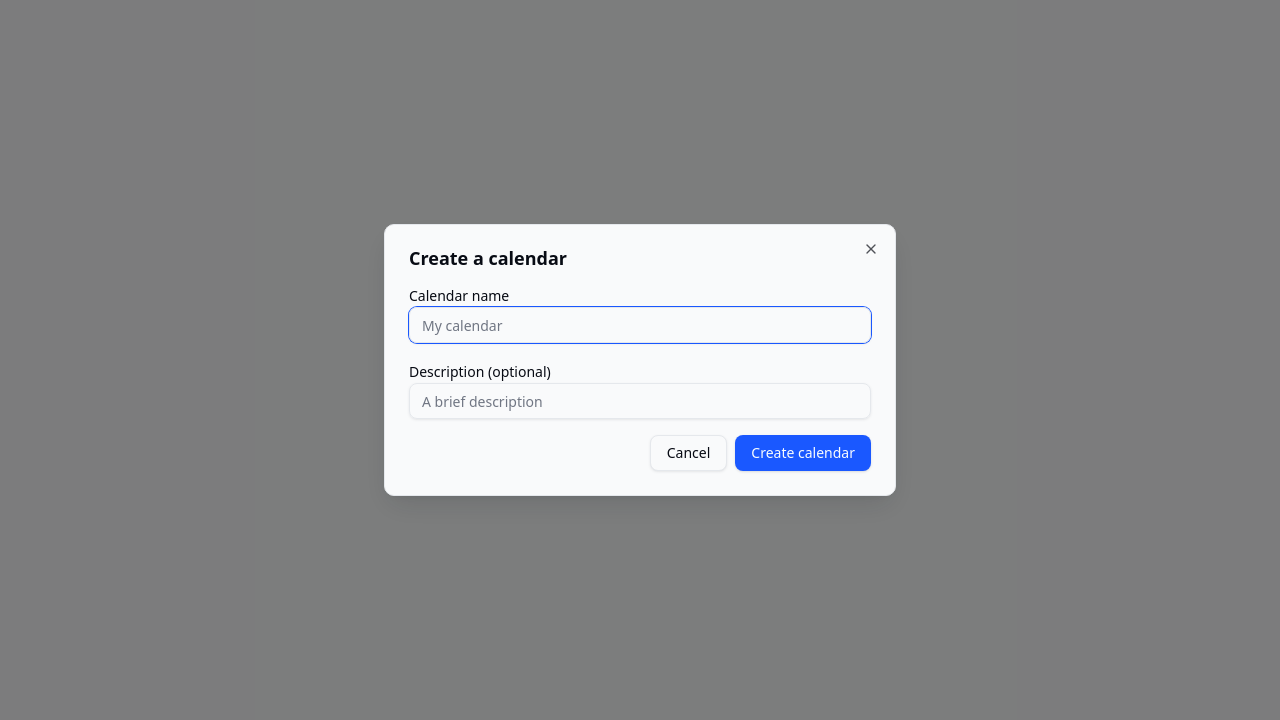
Test: CreateCalendarDialog › submit disabled while pending › submit button is disabled while the mutation is pending
The image size is (1280, 720).
In the field labelled "Calendar name": (640, 325) top-left (409, 307), bottom-right (871, 343), type "Pending Calendar"
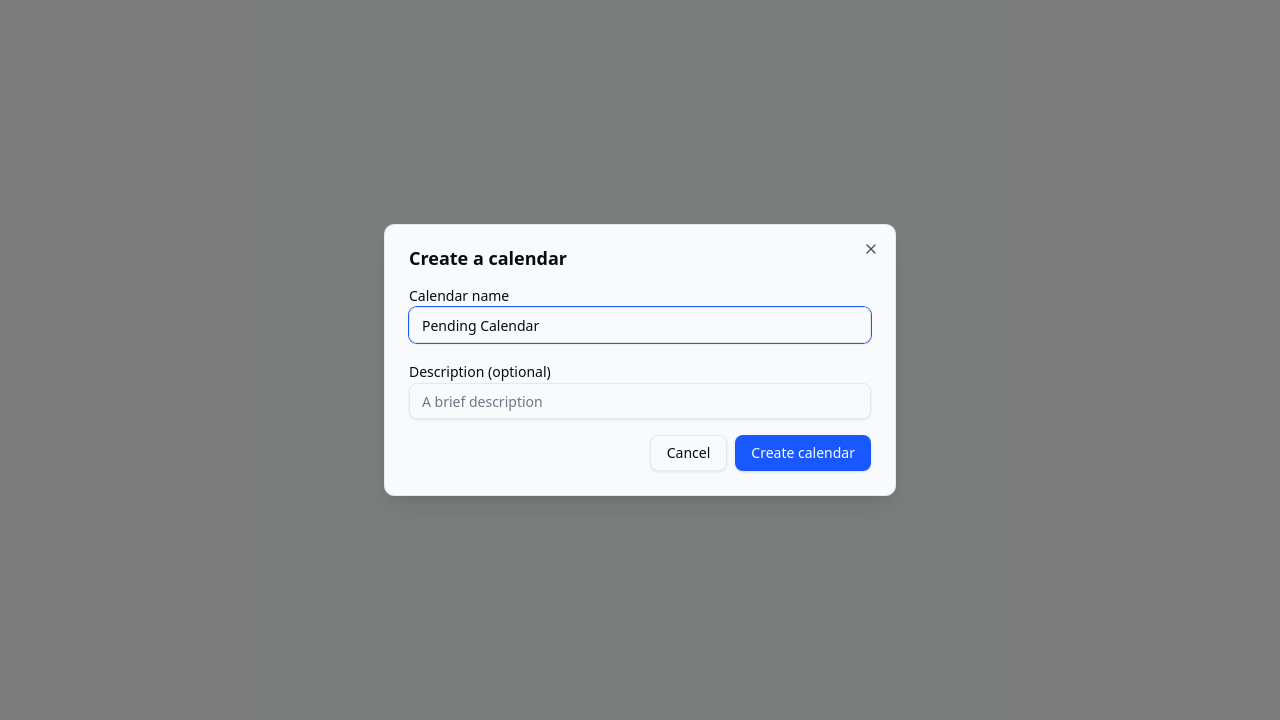
Click the button "Create calendar": (803, 453) top-left (735, 435), bottom-right (871, 471)
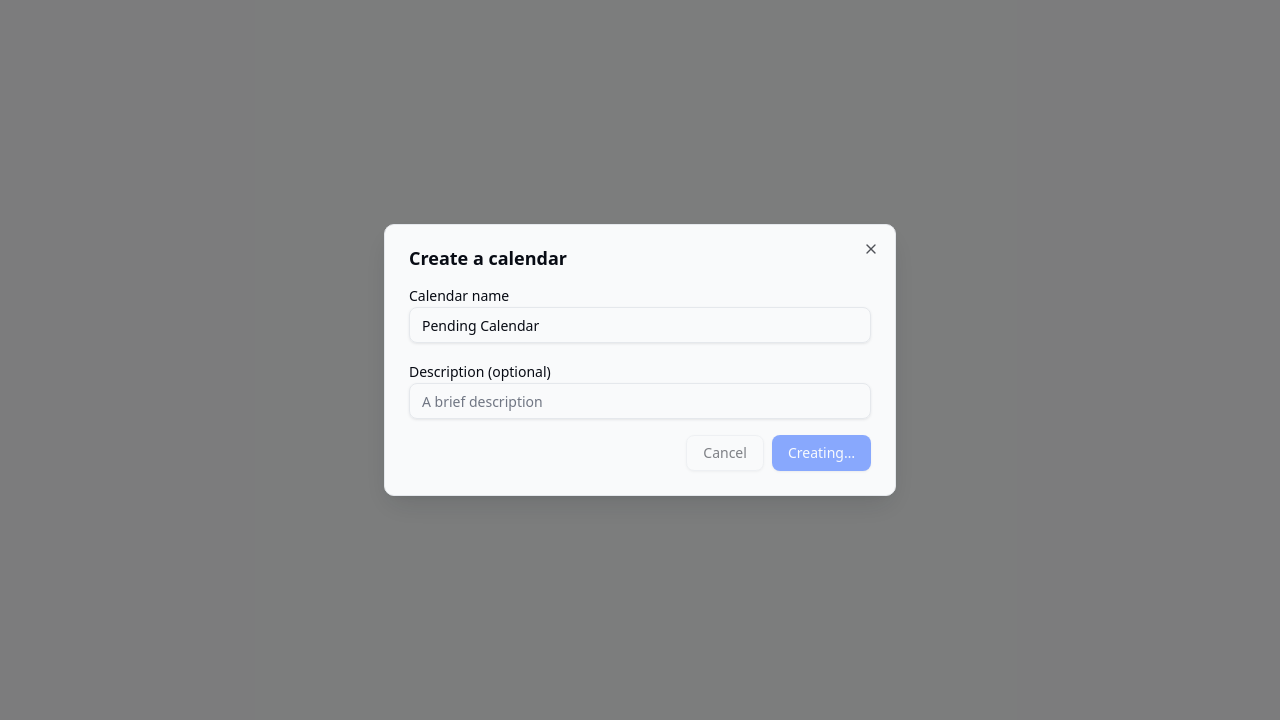
Check: the button "Creating…" is disabled, box top-left (772, 435), bottom-right (871, 471)
